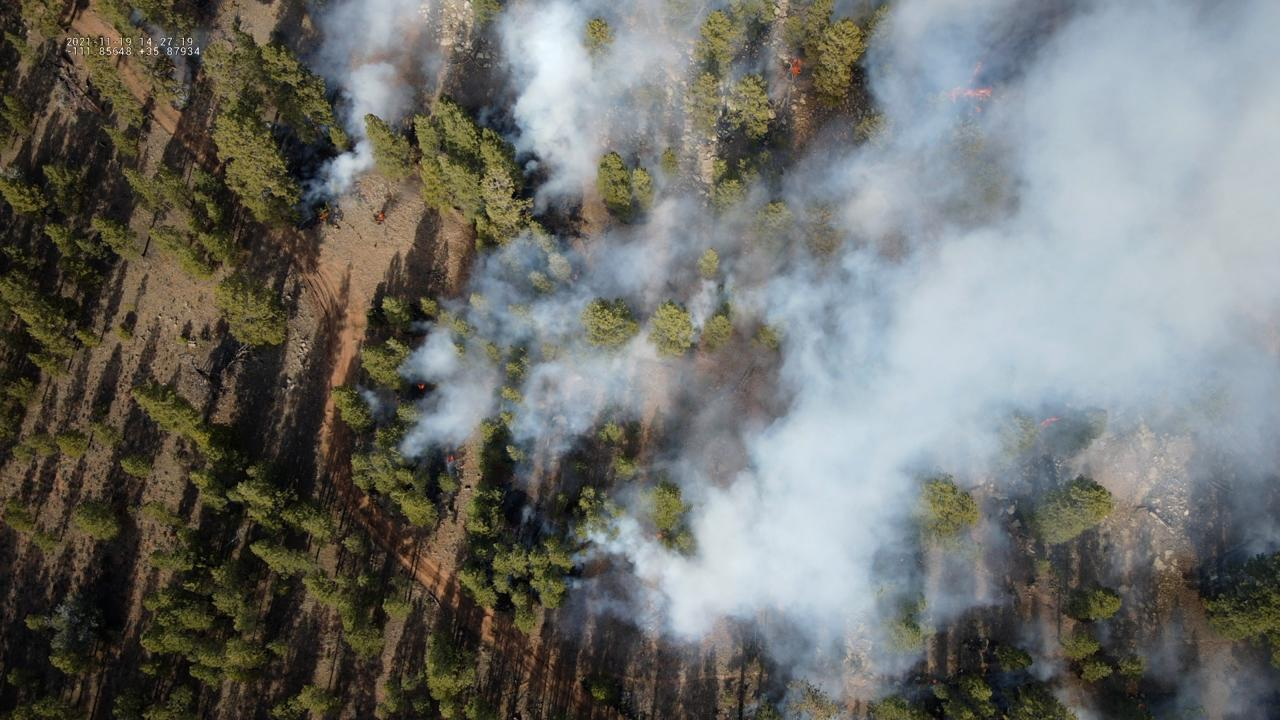fire: (947, 86, 993, 100), (1040, 416, 1062, 429), (788, 58, 802, 78), (972, 62, 985, 78), (445, 454, 455, 465), (376, 212, 385, 222), (319, 211, 329, 220), (417, 382, 425, 390), (974, 106, 981, 114), (655, 533, 662, 540), (573, 273, 579, 279), (932, 679, 938, 684)
smoke: (291, 0, 1280, 720), (142, 24, 210, 89), (129, 10, 142, 27)
